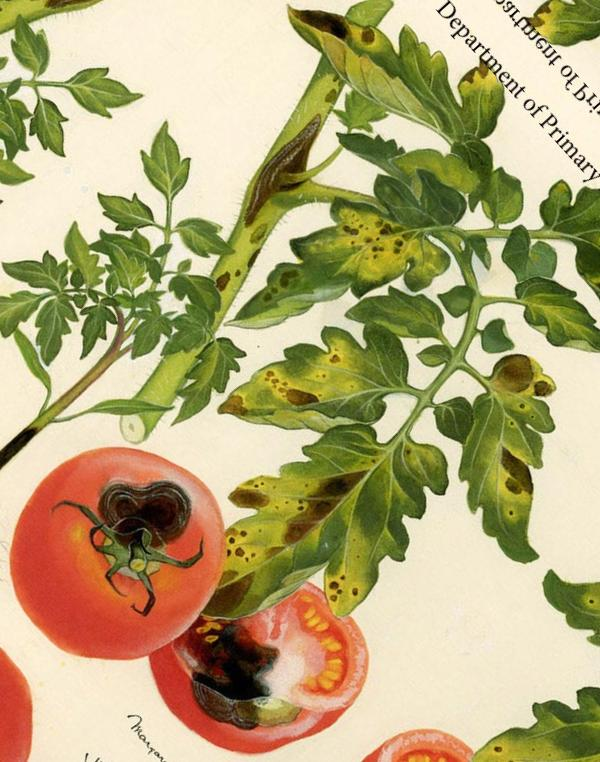Tomato Early blight leaf: (173, 395, 486, 699), (389, 321, 600, 584), (222, 148, 461, 378), (271, 0, 526, 189), (218, 286, 424, 488), (528, 170, 600, 384)
